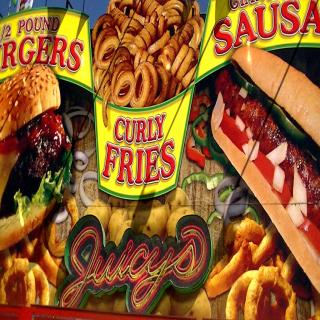French fries: (92, 0, 206, 126), (198, 201, 299, 310), (1, 194, 79, 310)
Hamburger: (210, 47, 320, 290), (0, 62, 72, 249)
